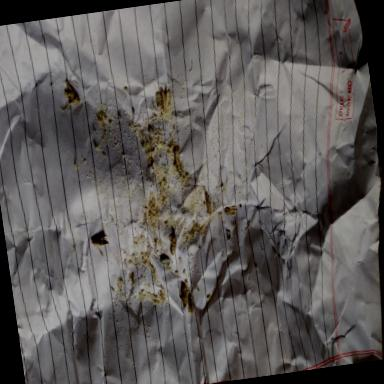pbw: (90, 237, 110, 260), (64, 78, 80, 104), (177, 280, 189, 308), (172, 146, 182, 178), (160, 89, 172, 114), (168, 232, 178, 255), (186, 291, 195, 315), (204, 191, 212, 216), (223, 204, 237, 216)
